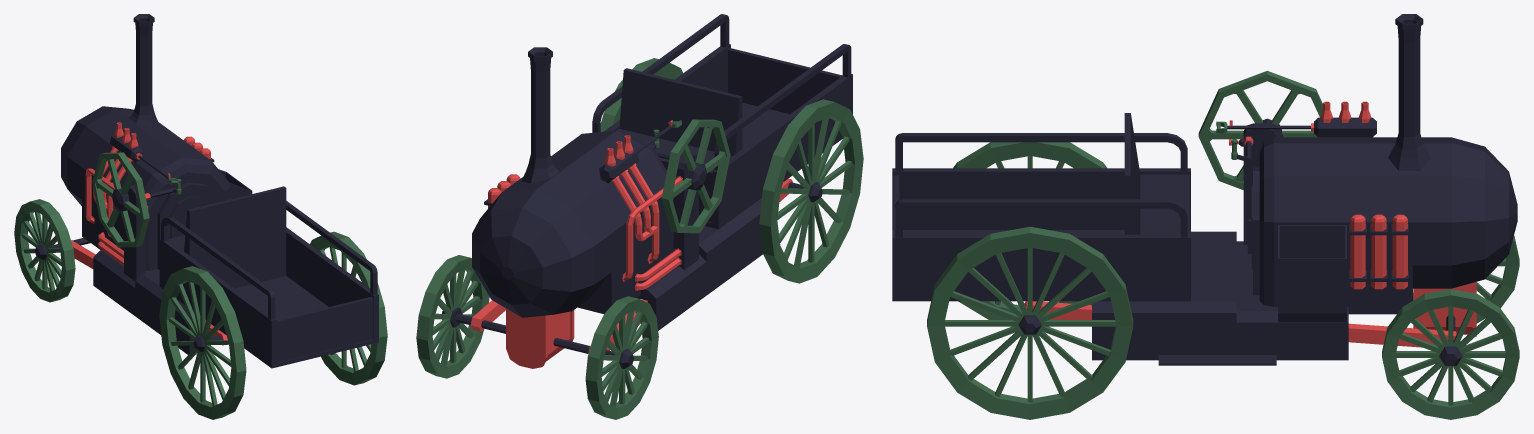
File: LowpolySteamCar.fbx
3 renders of one model, left to right at view 1: azimuth 30°, elevation 25°; view 2: azimuth 150°, elevation 25°; view 3: azimuth 270°, elevation 25°, orthographic. The views are drawn at different scales.
Visible parts, largest first — view 1: Cylinder.005, Cube, BL, Cube.005, FL, Cube.014, Cube.004, Circle.002, BR, Cube.009, Cylinder.001, Cube.008 (+7 smaller); view 2: Cylinder.005, BL, Cube, Cube.005, FL, Cube.004, FR, Circle.002, Cube.014, Cube.009, Cube.001, Cylinder.001 (+9 smaller); view 3: Cylinder.005, Cube, BR, Cube.004, FR, Cube.010, Cube.009, Cube.005, Cylinder.001, Circle.002, Cylinder.017, BL (+8 smaller).
Part boxes in pixels (x1,y1,x2,y2): Cylinder.005: (61, 106, 230, 270); Cube: (159, 227, 378, 368); BL: (159, 266, 246, 419); Cube.005: (168, 186, 286, 288); FL: (14, 199, 75, 302); Cube.014: (277, 297, 373, 362); Cube.004: (93, 250, 196, 354); Circle.002: (92, 152, 149, 247); BR: (310, 231, 387, 385); Cube.009: (161, 201, 377, 319); Cylinder.001: (128, 14, 159, 127); Cube.008: (124, 184, 150, 281); Cylinder.005: (472, 130, 673, 317); BL: (759, 99, 863, 283); Cube: (604, 44, 852, 229); Cube.005: (617, 68, 742, 222); FL: (585, 296, 658, 419); Cube.004: (637, 198, 762, 330); FR: (416, 255, 489, 378); Circle.002: (661, 119, 730, 233); Cube.014: (728, 48, 842, 113); Cube.009: (592, 14, 851, 170); Cube.001: (506, 308, 574, 368); Cylinder.001: (521, 47, 559, 183); Cylinder.005: (1253, 137, 1517, 314); Cube: (892, 168, 1190, 301); BR: (927, 226, 1133, 419); Cube.004: (1092, 231, 1348, 360); FR: (1382, 289, 1519, 419); Cube.010: (1278, 225, 1346, 322); Cube.009: (895, 133, 1187, 237); Cube.005: (1124, 113, 1189, 234); Cylinder.001: (1388, 14, 1430, 170); Circle.002: (1198, 70, 1322, 189); Cylinder.017: (1349, 214, 1408, 289); BL: (953, 142, 1106, 319).
Bounding box in the file's own units: 2.09 × 3.47 × 5.47.
